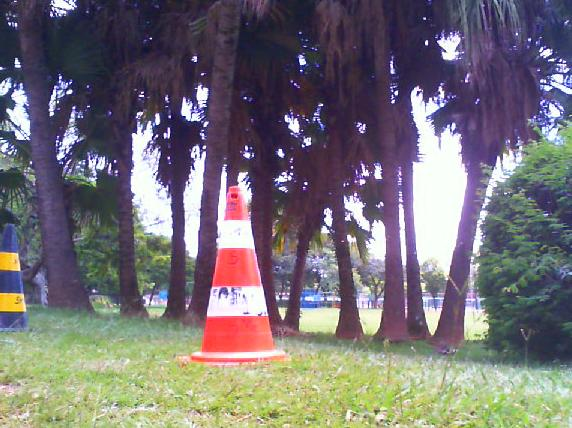0 cone: (175, 187, 292, 366), (0, 225, 39, 333)
